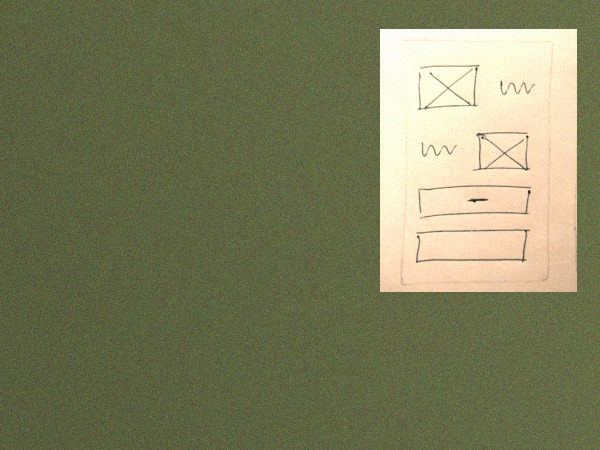button: (416, 184, 536, 221)
image: (413, 58, 483, 114), (471, 129, 533, 175)
text: (493, 73, 539, 103), (419, 138, 459, 161)
text_input: (411, 227, 535, 268)
